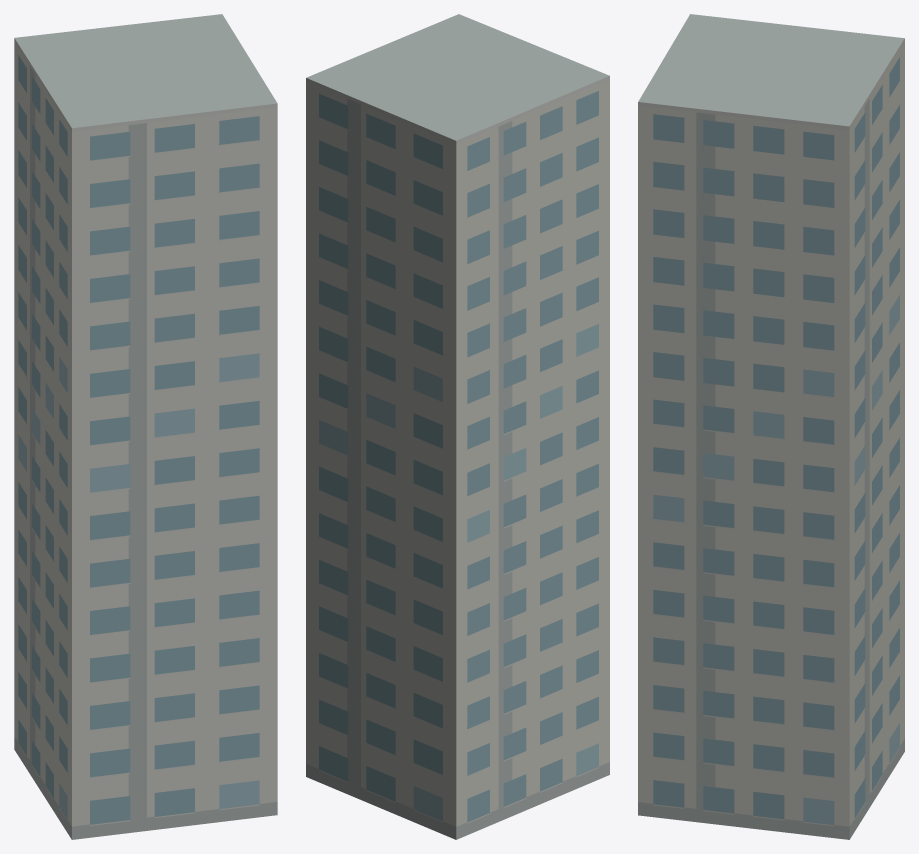
Rendered from survey-upis-32538535.glb.
3 renders of one model, left to right at view 1: azimuth 30°, elevation 25°; view 2: azimuth 150°, elevation 25°; view 3: azimuth 270°, elevation 25°, orthographic. The views are drawn at different scales.
Visible parts, largest first — view 1: survey-upis-32538535.tmp; view 2: survey-upis-32538535.tmp; view 3: survey-upis-32538535.tmp.
Boxes of the visible parts, x1,y1,x2,y2 form: survey-upis-32538535.tmp: (14,14,277,839); survey-upis-32538535.tmp: (306,14,609,839); survey-upis-32538535.tmp: (638,14,904,839).
Size of the model in its own units: 15.47 by 45.75 by 15.51.
